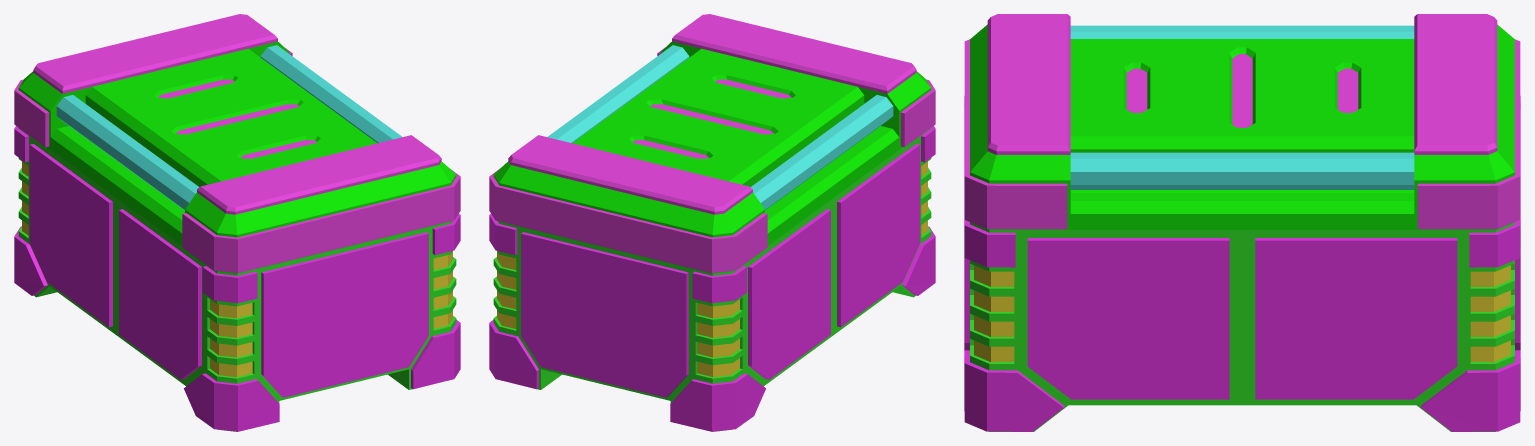
The model's file is Crate_02.fbx.
3 views of the same model, side by side, from view 1: azimuth 30°, elevation 25°; view 2: azimuth 150°, elevation 25°; view 3: azimuth 270°, elevation 25° (orthographic). The views are drawn at different scales.
Visible parts, largest first — view 1: Crate_02_Cap, Crate_02; view 2: Crate_02_Cap, Crate_02; view 3: Crate_02_Cap, Crate_02.
Part boxes in pixels (box(x1,y1,x2,y2)): Crate_02_Cap: box(14, 14, 460, 273); Crate_02: box(14, 126, 460, 431); Crate_02_Cap: box(489, 14, 935, 273); Crate_02: box(489, 126, 935, 431); Crate_02_Cap: box(964, 14, 1520, 229); Crate_02: box(964, 96, 1520, 431).
Size of the model in its own units: 94.49 by 79.33 by 144.
